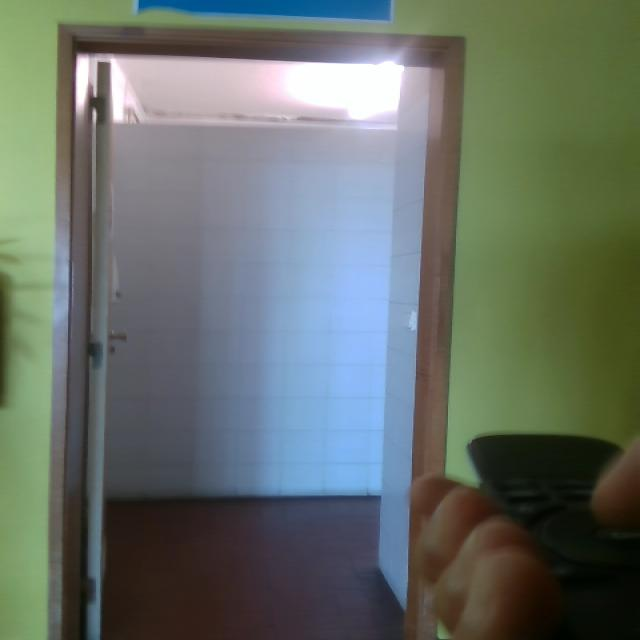open: (42, 21, 466, 639)
